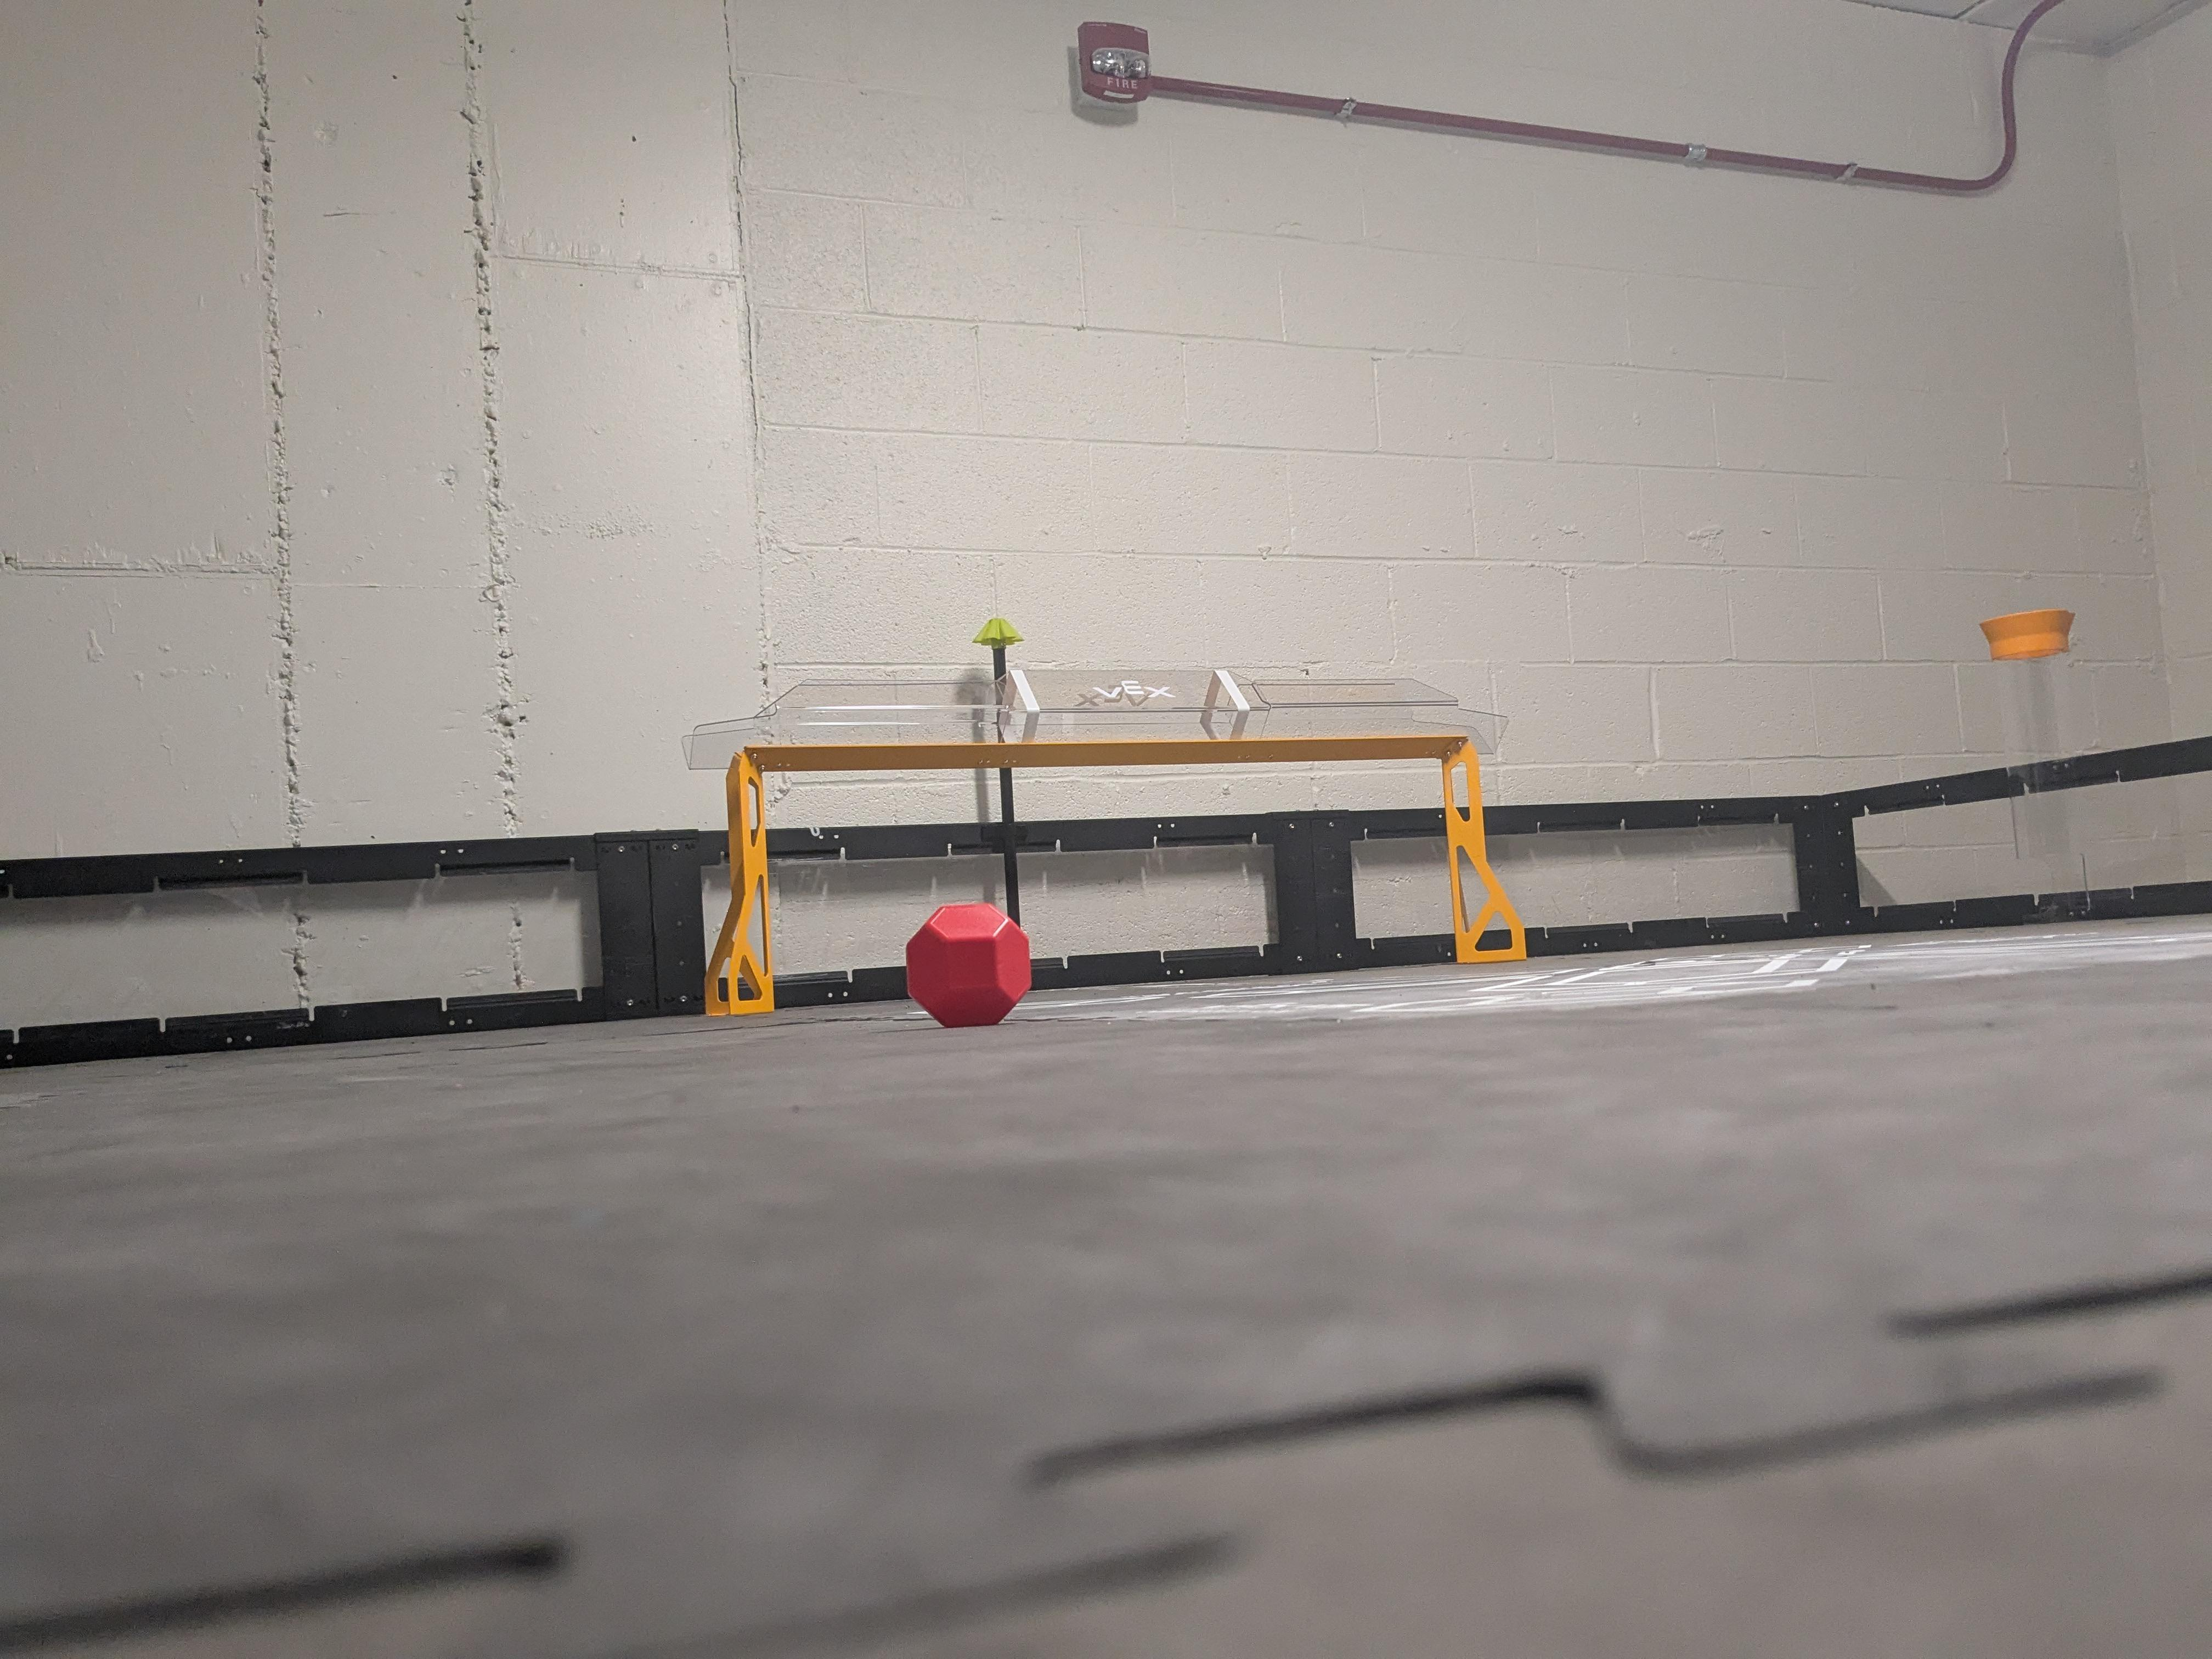Vex-Pieces-RED: (907, 904, 1029, 1023)
